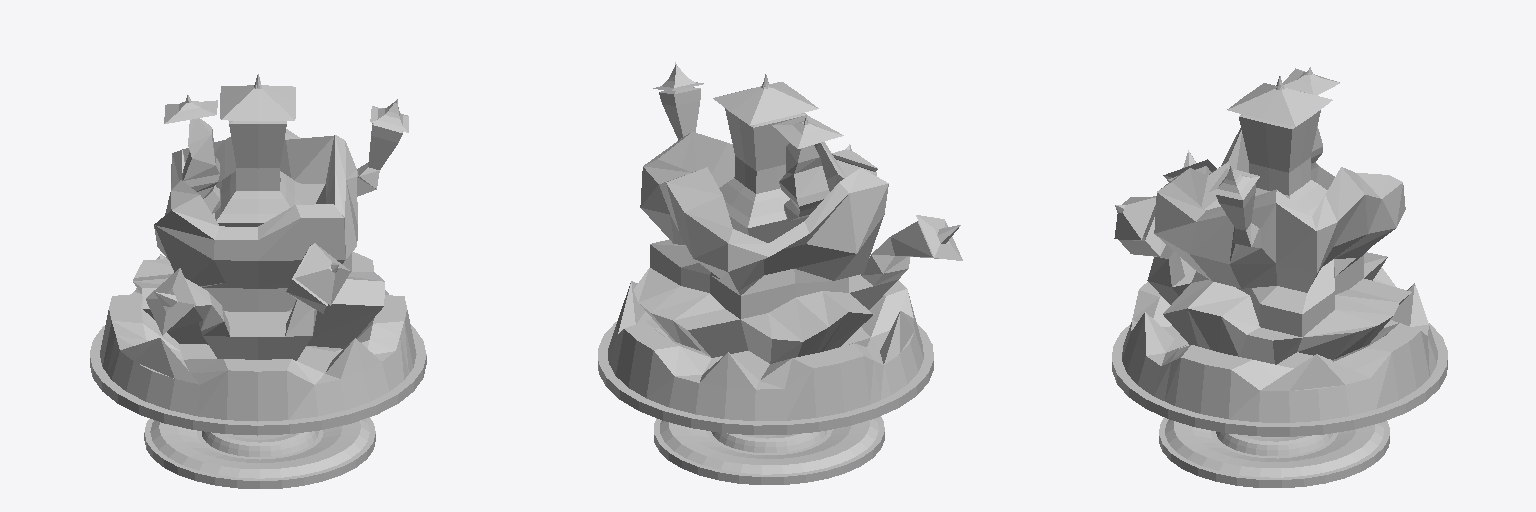
The model's file is print.obj.
3 renders of one model, left to right at view 1: azimuth 30°, elevation 25°; view 2: azimuth 150°, elevation 25°; view 3: azimuth 270°, elevation 25°, orthographic.
Visible parts, largest first — view 1: Castle_castle; view 2: Castle_castle; view 3: Castle_castle.
Boxes of the visible parts, x1=… form: Castle_castle: x1=90, y1=74, x2=426, y2=488; Castle_castle: x1=598, y1=62, x2=962, y2=484; Castle_castle: x1=1112, y1=67, x2=1447, y2=487.
Bounding box in the file's own units: 0.293 × 0.3464 × 0.2888.